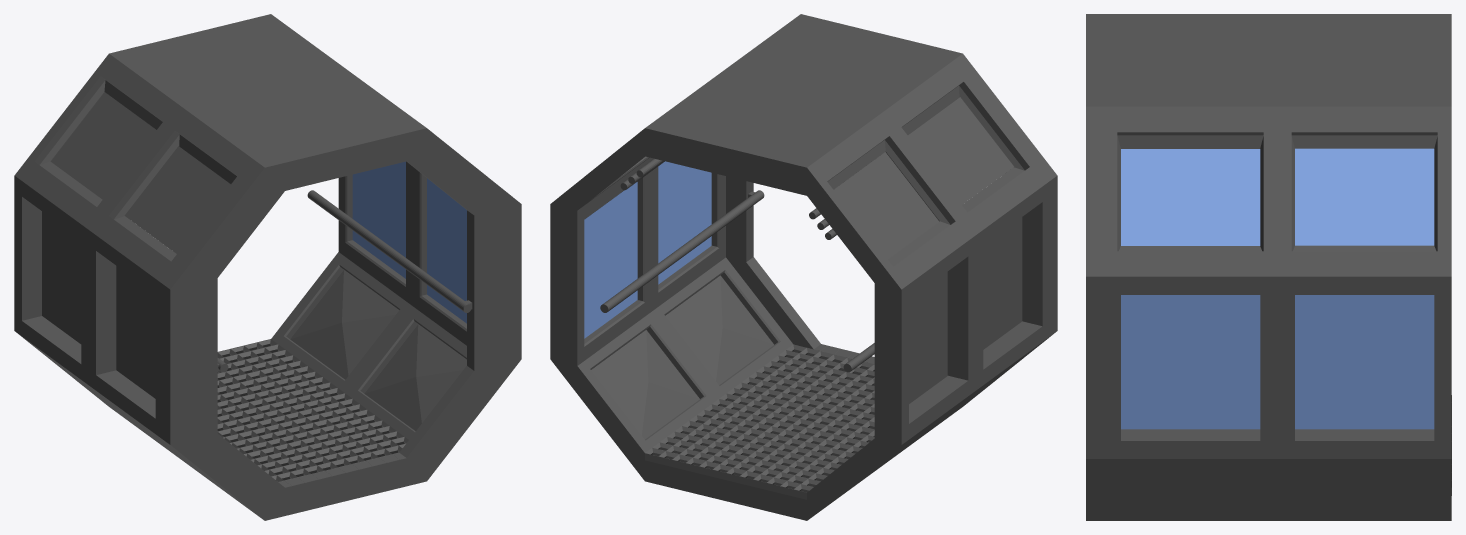
File: corridor-window-right.glb
3 renders of one model, left to right at view 1: azimuth 30°, elevation 25°; view 2: azimuth 150°, elevation 25°; view 3: azimuth 270°, elevation 25°, orthographic. The views are drawn at different scales.
Parts seen in each view (by area): view 1: Corridor, Walls, Floor, Windows, Railing; view 2: Corridor, Floor, Walls, Windows, Railing, Pipes; view 3: Corridor, Windows.
Part boxes in pixels (x1=…): Corridor: x1=14, y1=14, x2=521, y2=520; Walls: x1=42, y1=92, x2=230, y2=398; Floor: x1=217, y1=339, x2=408, y2=481; Windows: x1=352, y1=161, x2=466, y2=323; Railing: x1=217, y1=190, x2=471, y2=372; Corridor: x1=550, y1=14, x2=1057, y2=520; Floor: x1=645, y1=344, x2=874, y2=499; Walls: x1=834, y1=97, x2=1022, y2=403; Windows: x1=584, y1=161, x2=711, y2=338; Railing: x1=600, y1=190, x2=874, y2=372; Pipes: x1=620, y1=158, x2=836, y2=239; Corridor: x1=1086, y1=14, x2=1451, y2=520; Windows: x1=1121, y1=148, x2=1434, y2=429.
Bounding box in the file's own units: 2.6 × 2.5 × 2.
